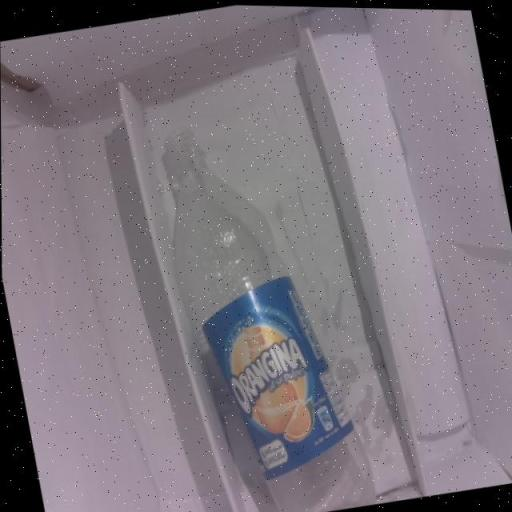plastic: (136, 96, 382, 512)
